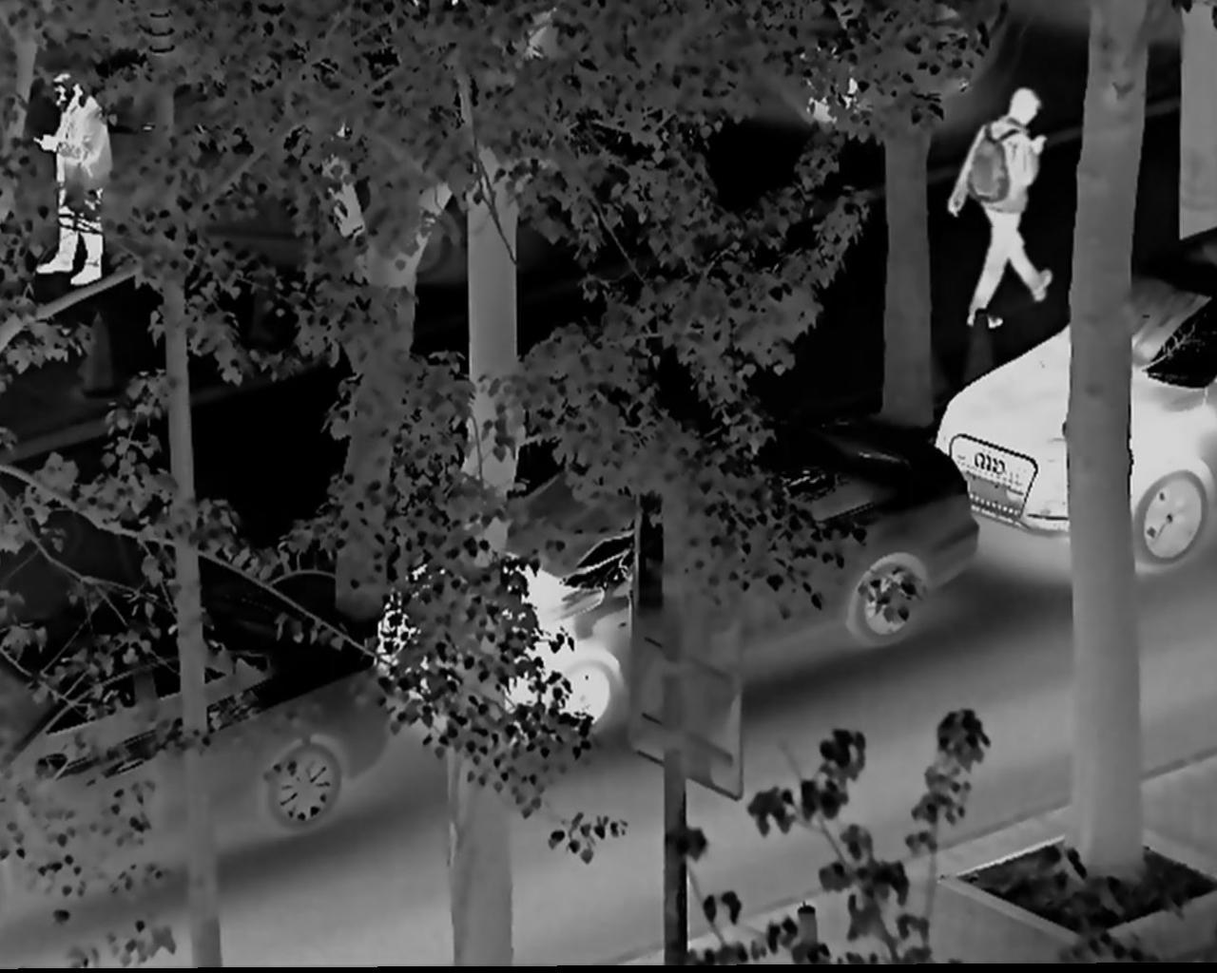person: (948, 72, 1056, 330), (28, 71, 116, 282)
